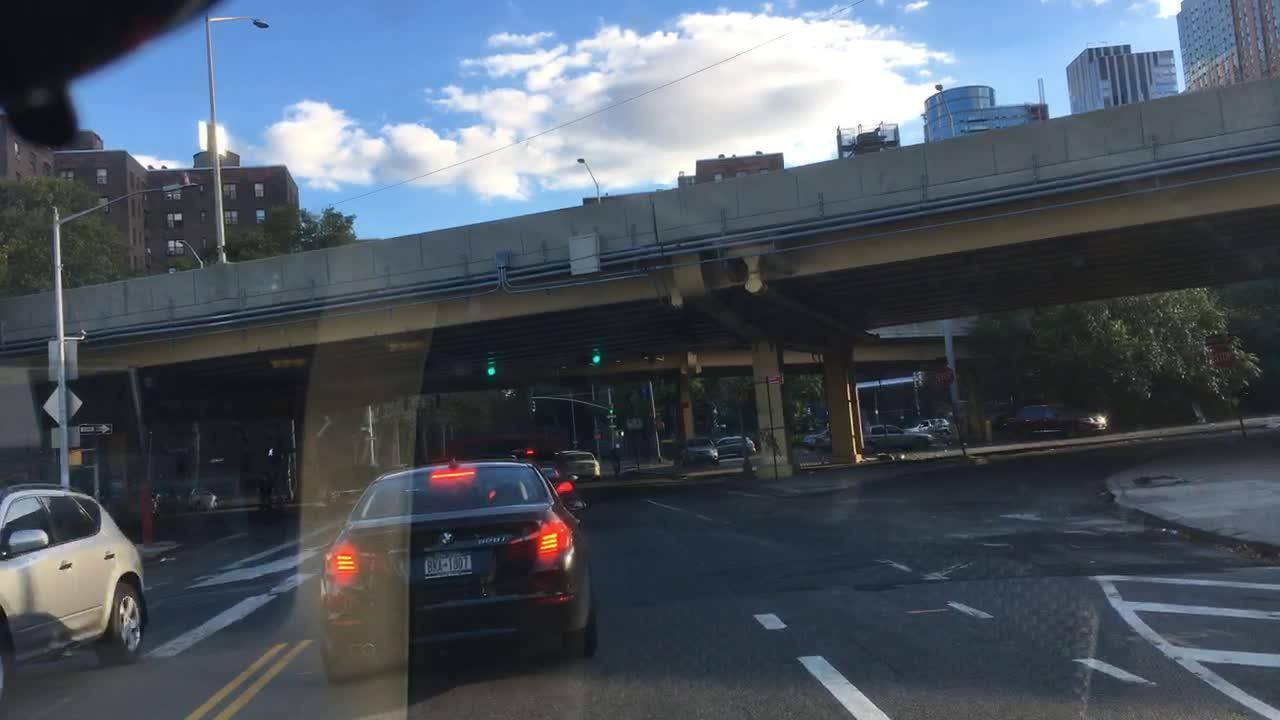bmw: (428, 524, 461, 552)
